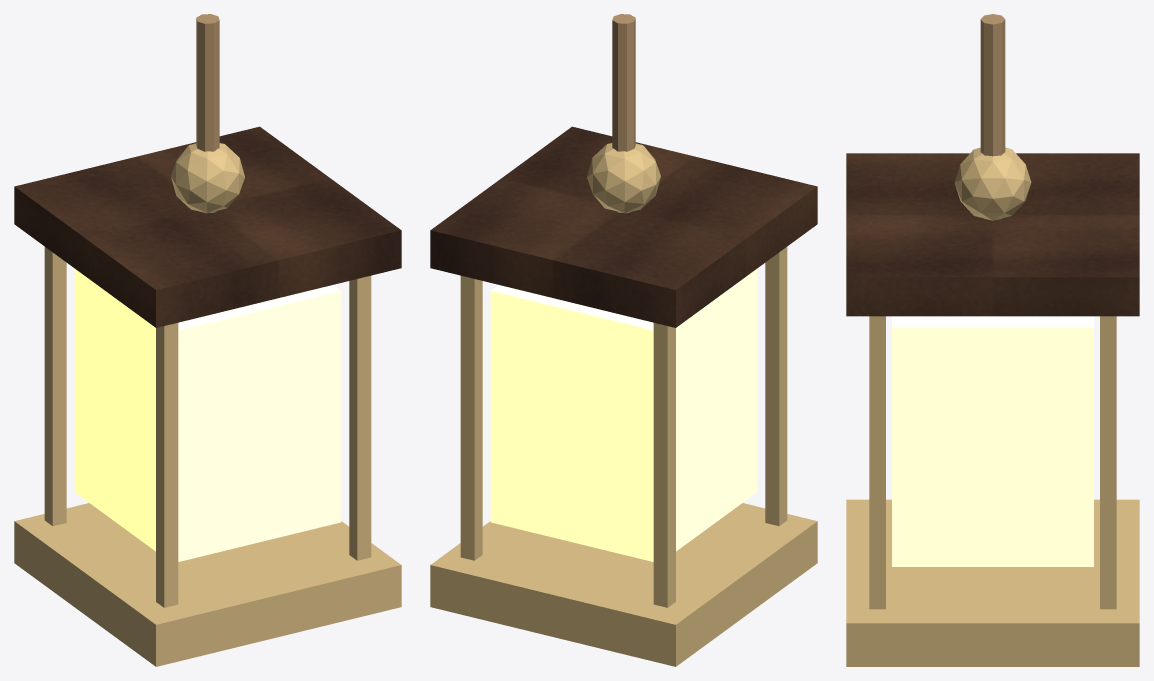
File: lampu_gantung_jawa.glb
3 renders of one model, left to right at view 1: azimuth 30°, elevation 25°; view 2: azimuth 150°, elevation 25°; view 3: azimuth 270°, elevation 25°, orthographic. The views are drawn at different scales.
Parts seen in each view (by area): view 1: LANTERN_GLOW, LANTERN_TOP, LANTERN_BASE, LANTERN_CAGE_BAR_-0.24_0.24, LANTERN_CAGE_BAR_0.24_0.24, LANTERN_CAGE_BAR_-0.24_-0.24, LANTERN_FINIAL, LANTERN_CHAIN; view 2: LANTERN_GLOW, LANTERN_TOP, LANTERN_BASE, LANTERN_CAGE_BAR_-0.24_-0.24, LANTERN_CAGE_BAR_0.24_-0.24, LANTERN_CAGE_BAR_-0.24_0.24, LANTERN_FINIAL, LANTERN_CHAIN; view 3: LANTERN_GLOW, LANTERN_TOP, LANTERN_BASE, LANTERN_CAGE_BAR_0.24_-0.24, LANTERN_CAGE_BAR_0.24_0.24, LANTERN_FINIAL, LANTERN_CHAIN.
Part boxes in pixels (x1,y1,x2,y2): LANTERN_GLOW: (74,269,341,561); LANTERN_TOP: (14,126,401,327); LANTERN_BASE: (14,503,401,666); LANTERN_CAGE_BAR_-0.24_0.24: (156,323,178,607); LANTERN_CAGE_BAR_0.24_0.24: (349,275,371,560); LANTERN_CAGE_BAR_-0.24_-0.24: (44,247,66,526); LANTERN_FINIAL: (171,143,244,213); LANTERN_CHAIN: (196,14,219,213); LANTERN_GLOW: (490,269,757,561); LANTERN_TOP: (430,126,817,327); LANTERN_BASE: (430,503,817,666); LANTERN_CAGE_BAR_-0.24_-0.24: (653,323,675,607); LANTERN_CAGE_BAR_0.24_-0.24: (460,275,482,560); LANTERN_CAGE_BAR_-0.24_0.24: (765,247,787,526); LANTERN_FINIAL: (587,143,660,213); LANTERN_CHAIN: (612,14,635,213); LANTERN_GLOW: (892,316,1093,566); LANTERN_TOP: (846,153,1139,316); LANTERN_BASE: (846,499,1139,666); LANTERN_CAGE_BAR_0.24_-0.24: (1100,316,1116,609); LANTERN_CAGE_BAR_0.24_0.24: (869,316,885,609); LANTERN_FINIAL: (954,147,1031,220); LANTERN_CHAIN: (980,14,1005,219).
Size of the model in its own units: 0.61 by 1.34 by 0.61.
4 materials, 1 textured.
